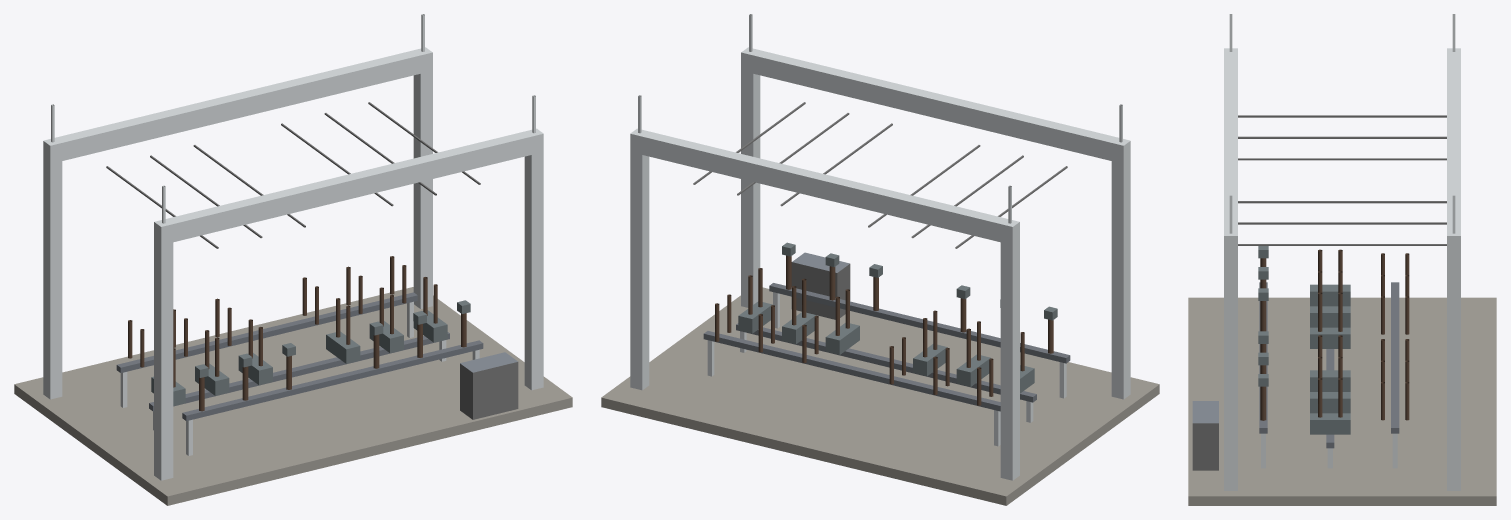
The model's file is mashup-switchyard-top-prebuilt.fbx.
3 views of the same model, side by side, from view 1: azimuth 30°, elevation 25°; view 2: azimuth 150°, elevation 25°; view 3: azimuth 270°, elevation 25° (orthographic).
Visible parts, largest first — view 1: a1057/0/mashup-switchyard-top-prebuilt; view 2: a1057/0/mashup-switchyard-top-prebuilt; view 3: a1057/0/mashup-switchyard-top-prebuilt.
Part boxes in pixels (x1,y1,x2,y2): a1057/0/mashup-switchyard-top-prebuilt: [14, 14, 572, 505]; a1057/0/mashup-switchyard-top-prebuilt: [601, 14, 1159, 505]; a1057/0/mashup-switchyard-top-prebuilt: [1188, 14, 1496, 505].
Bounding box in the file's own units: 23.2 × 16.4 × 15.2.
